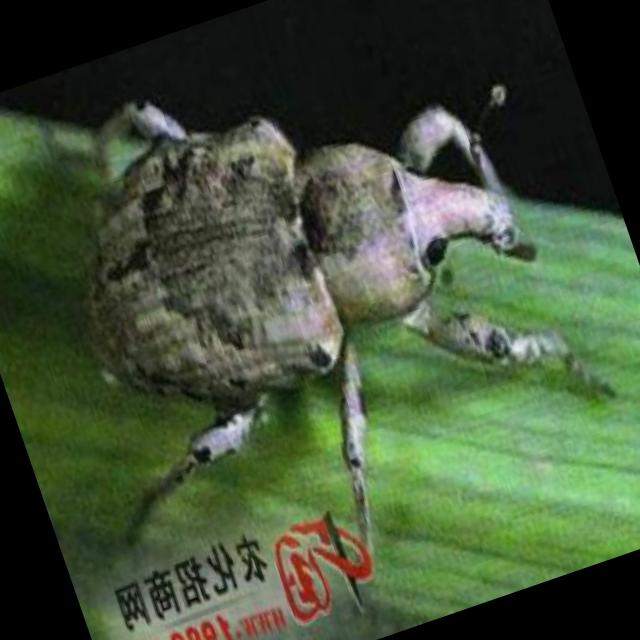rice-bug: (29, 0, 555, 469)
